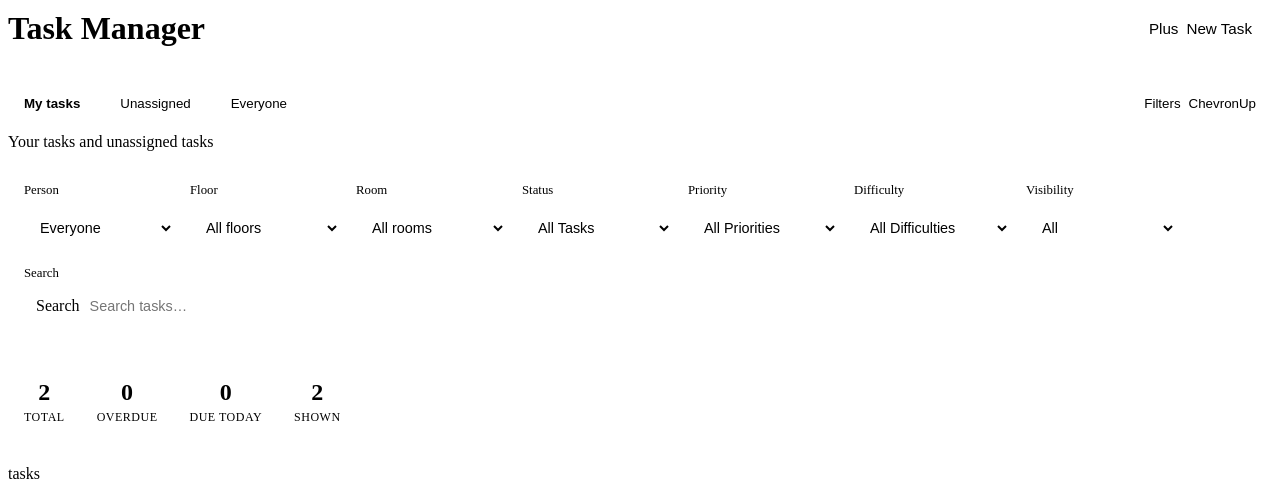
Test: TaskManager › prefills the create form from the unassigned scope
This screenshot has width=1280, height=496.
What coordinates should you click on to do the following:
click the button with test id "tasks-filter-unassigned"
I would click on:
 (156, 103)
Its box is [104,81,207,125].
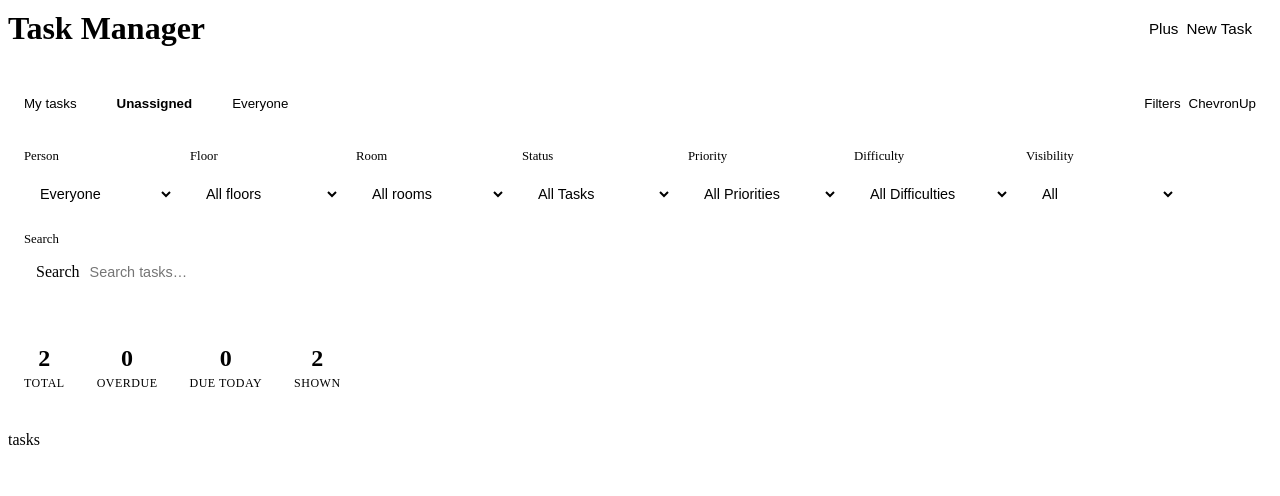
What coordinates should you click on to do the following:
click the button with test id "add-task-button"
I would click on:
 (1200, 28)
Its box is [1129,8,1272,49].
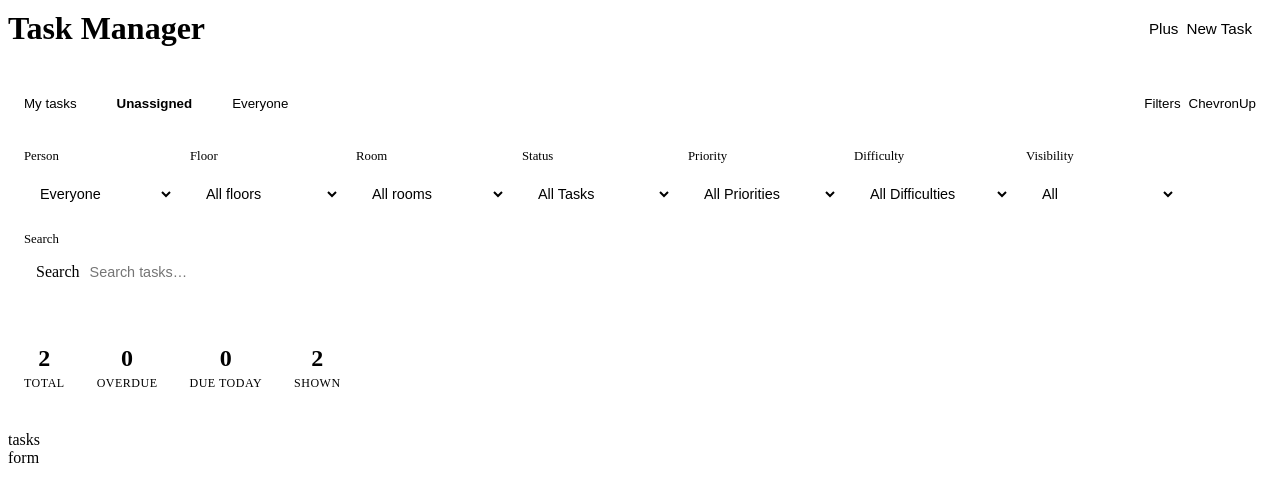
Check: the text "form" is shown, box [8,449,39,466]
